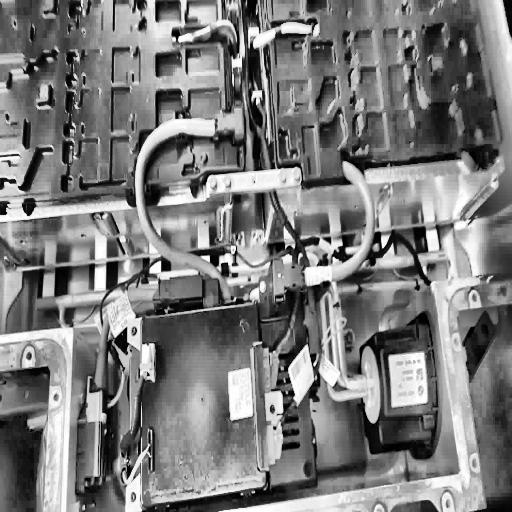high_volt_cable: (134, 110, 234, 304), (302, 151, 380, 292)
low_volt_cable: (225, 1, 311, 465)
nut: (222, 175, 233, 190), (292, 166, 302, 182), (210, 175, 217, 189), (280, 170, 286, 184)
